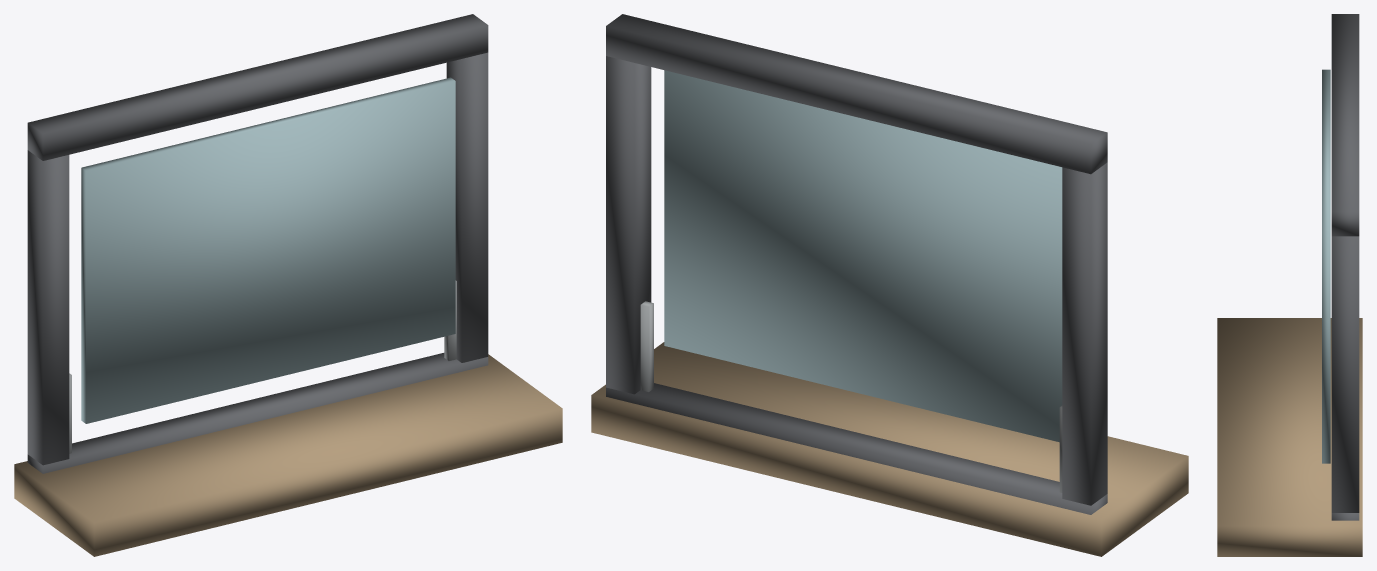
Rendered from service_window__reinforced.glb.
3 views of the same model, side by side, from view 1: azimuth 30°, elevation 25°; view 2: azimuth 150°, elevation 25°; view 3: azimuth 270°, elevation 25° (orthographic). The views are drawn at different scales.
Visible parts, largest first — view 1: world; view 2: world; view 3: world.
Boxes of the visible parts, <box> form: world: <box>14,14,562,556</box>; world: <box>591,14,1188,556</box>; world: <box>1217,14,1362,556</box>.
Bounding box in the file's own units: 1.46 × 1.12 × 0.4326.
